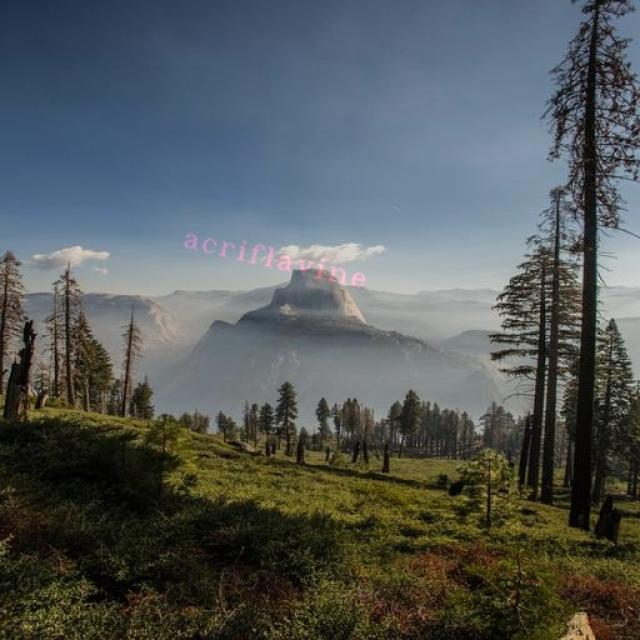watermark: (173, 224, 385, 293)
